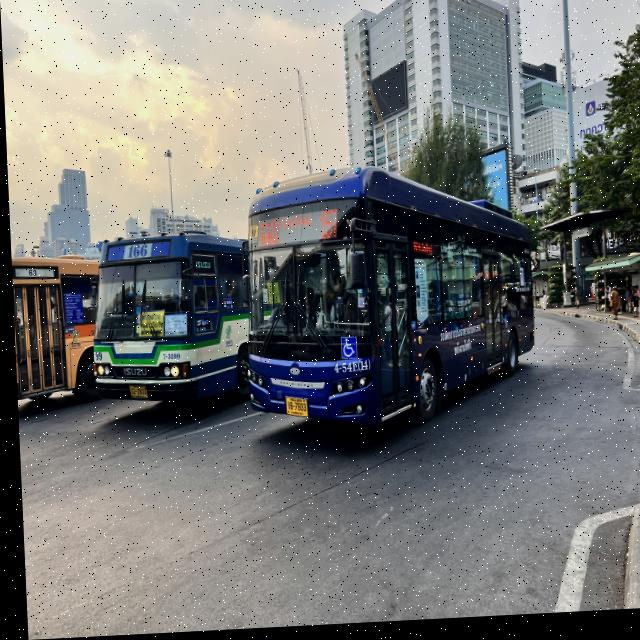BMTA-bus: (75, 234, 249, 412), (9, 255, 101, 407)
Bus-Line-Number: (315, 207, 342, 245), (122, 241, 148, 264), (24, 265, 37, 279)
Destination-Sign-Normal: (254, 215, 315, 249)
Destination-Sign-Normal-Expressway: (135, 312, 162, 340)
TSB-Bus: (234, 166, 535, 440)
